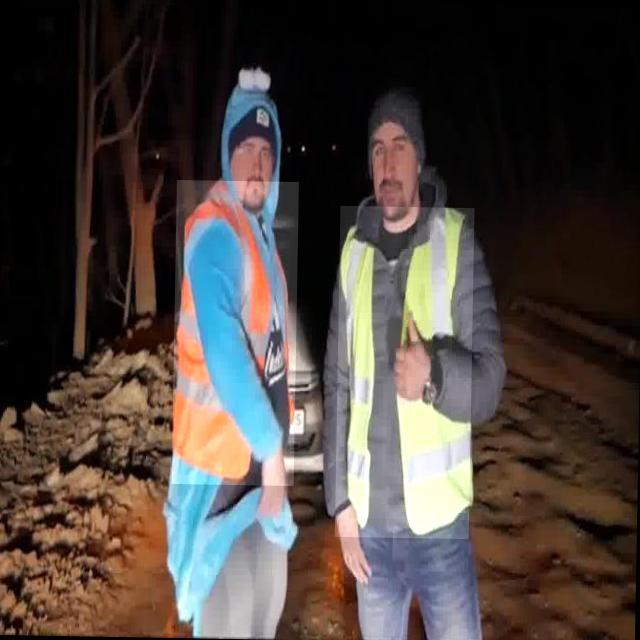Person: (120, 45, 319, 640), (321, 68, 523, 640)
Safety Vest: (334, 206, 474, 540), (172, 180, 299, 486)
bare-arms: (384, 302, 440, 417), (324, 494, 386, 594), (248, 434, 298, 533)
no-helmet: (220, 59, 285, 152), (363, 83, 429, 166)
